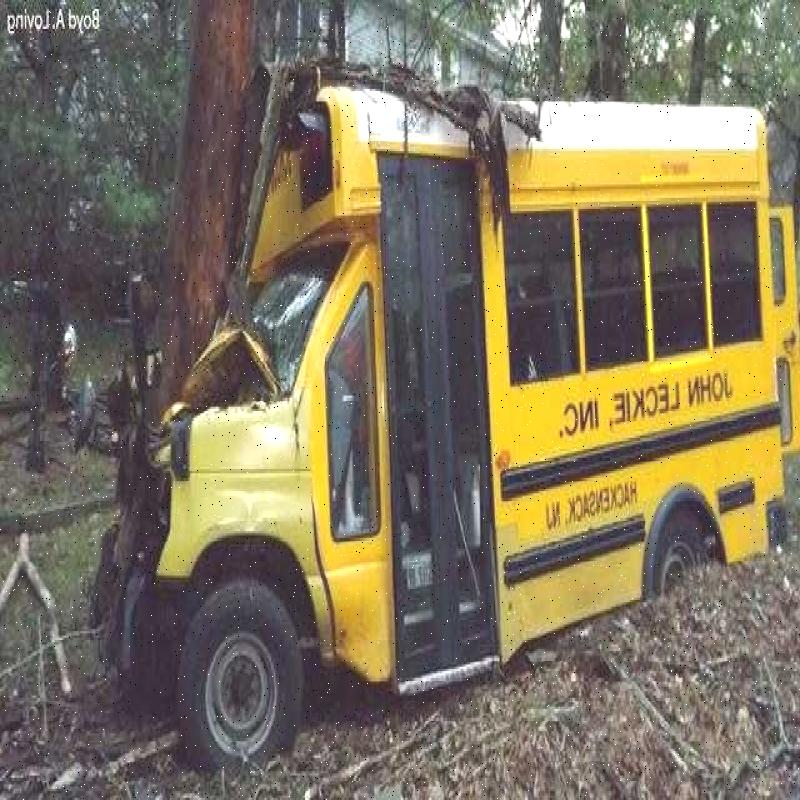bus: (116, 34, 795, 786)
